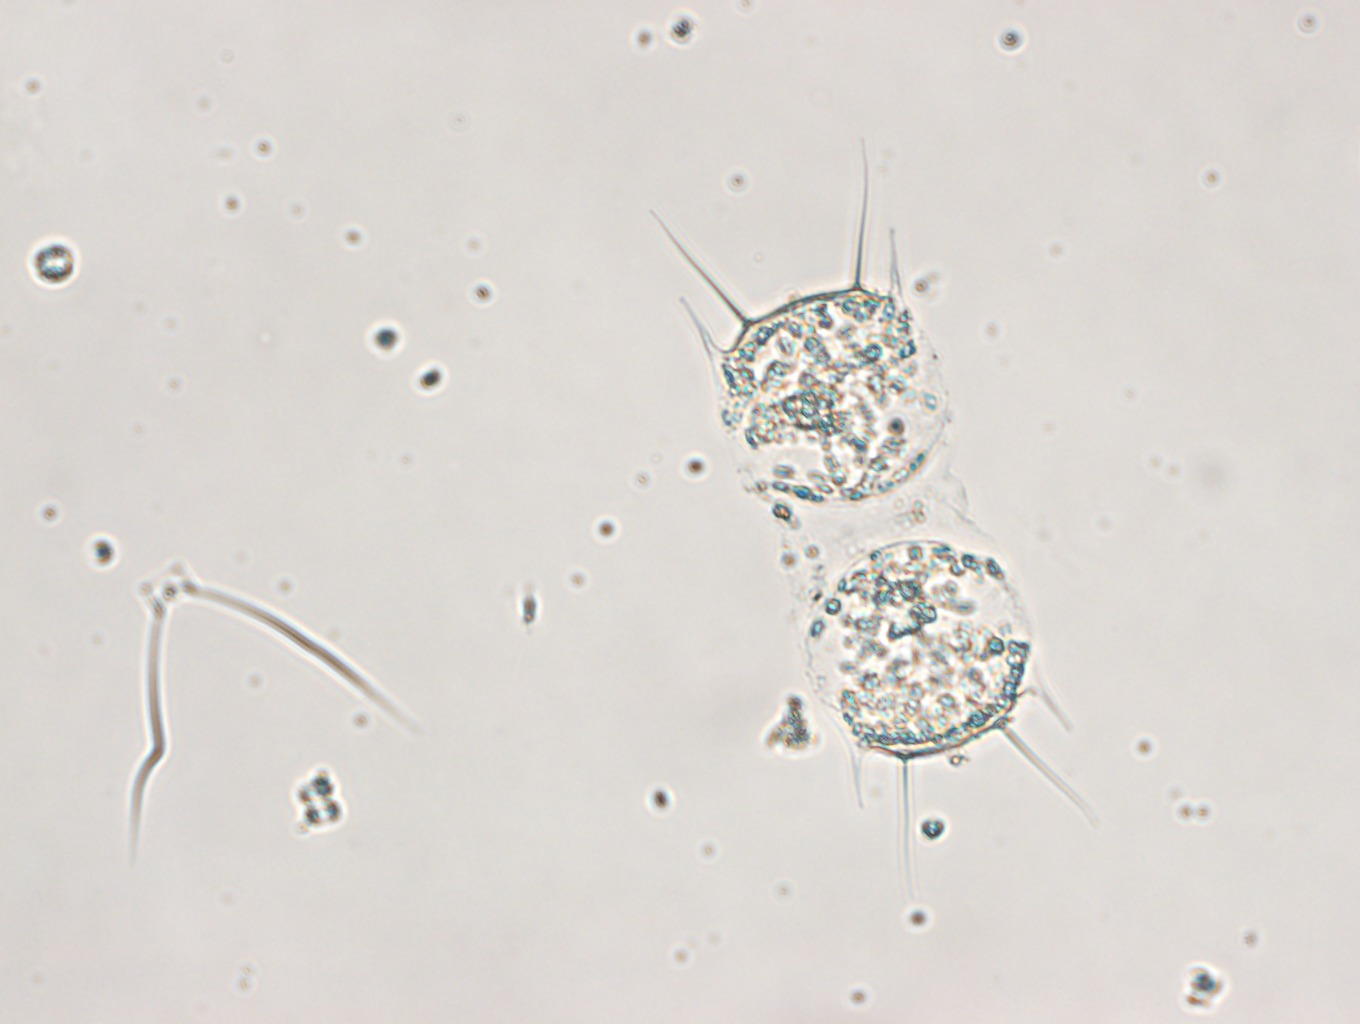biddulphia: (644, 137, 1098, 894)
